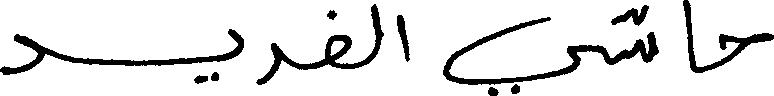X: (443, 12, 590, 95), (720, 28, 773, 70), (0, 29, 44, 79), (623, 0, 655, 67), (327, 5, 350, 73), (683, 0, 696, 77), (259, 38, 278, 89), (227, 24, 244, 64), (398, 10, 409, 66), (372, 0, 380, 64)
